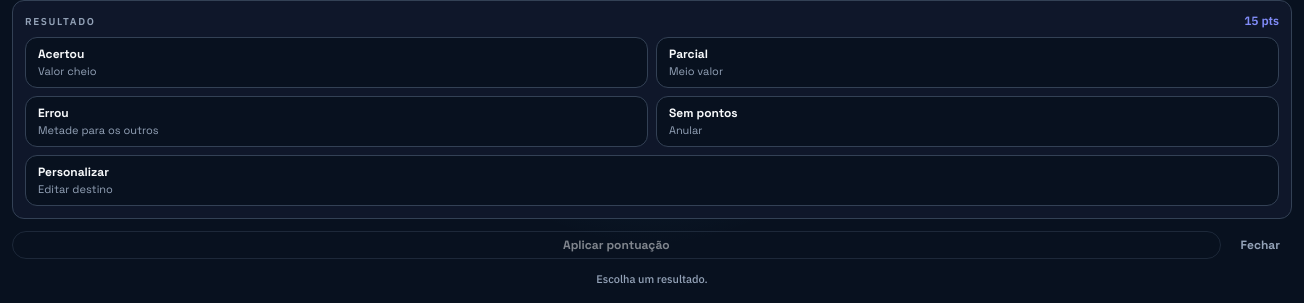
Scenario: ScoringControls — preset "Errou" › mostra o resumo da regra antes de aplicar
The width and height of the screenshot is (1304, 303).
Step 1. Click the text "Errou" → (53, 113), box [38, 105, 69, 121]
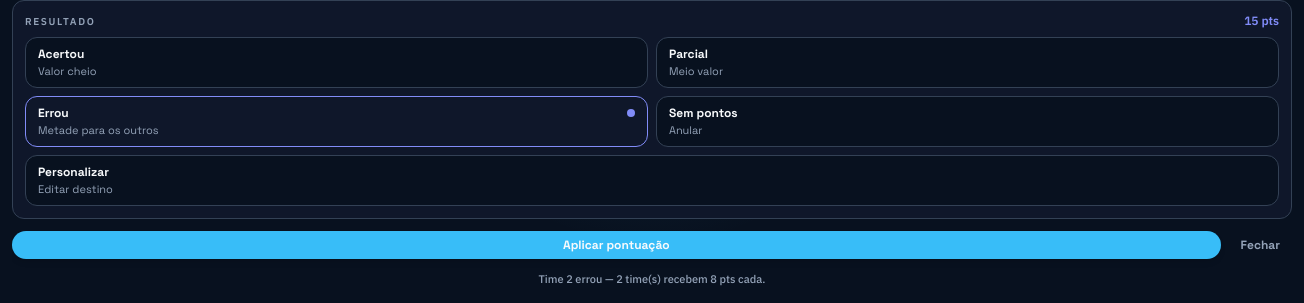
Expected: the text "Time 2 errou — 2 time(s) recebem 8 pts cada." is shown, [538, 272, 766, 286]
